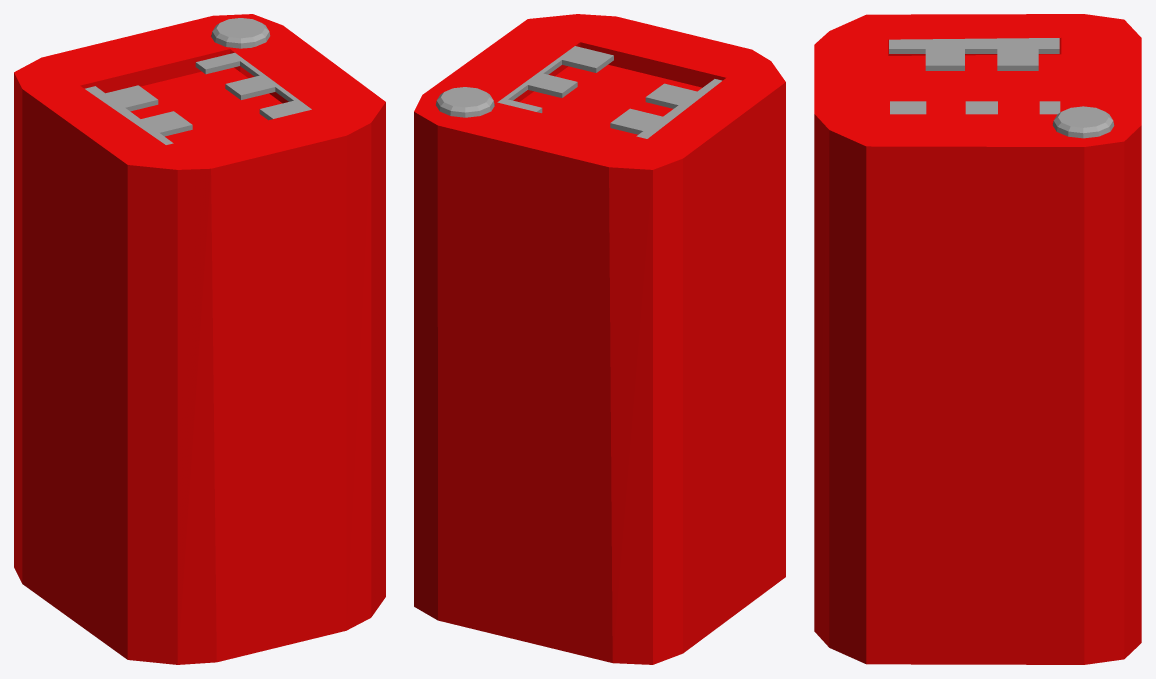
File: Battery_Station.fbx
3 renders of one model, left to right at view 1: azimuth 30°, elevation 25°; view 2: azimuth 150°, elevation 25°; view 3: azimuth 270°, elevation 25°, orthographic. The views are drawn at different scales.
Parts seen in each view (by area): view 1: Doors:pCube4; view 2: Doors:pCube4; view 3: Doors:pCube4.
Part boxes in pixels (x1,y1,x2,y2): Doors:pCube4: (14,14,385,664); Doors:pCube4: (414,14,785,664); Doors:pCube4: (814,14,1141,664).
Bounding box in the file's own units: 1.74 × 3.2 × 1.8.
